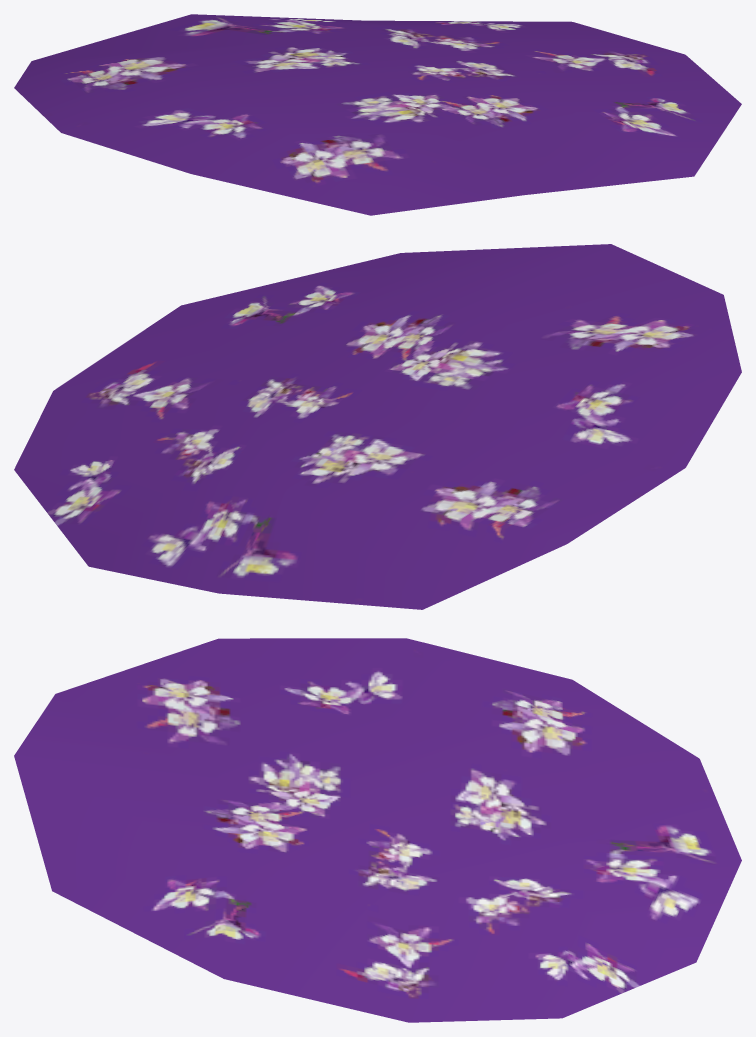
File: flower_patch.glb
3 views of the same model, one above another, from view 1: azimuth 30°, elevation 25°; view 2: azimuth 150°, elevation 25°; view 3: azimuth 270°, elevation 25° (orthographic).
Visible parts, largest first — view 1: flower_patch; view 2: flower_patch; view 3: flower_patch.
Part boxes in pixels (left/top/right/bottom): flower_patch: left=14, top=14, right=741, bottom=215; flower_patch: left=14, top=244, right=741, bottom=609; flower_patch: left=14, top=638, right=741, bottom=1022.
Bounding box in the file's own units: 2.14 × 0.3921 × 2.13.
Materials: 1 (1 with a texture image).
